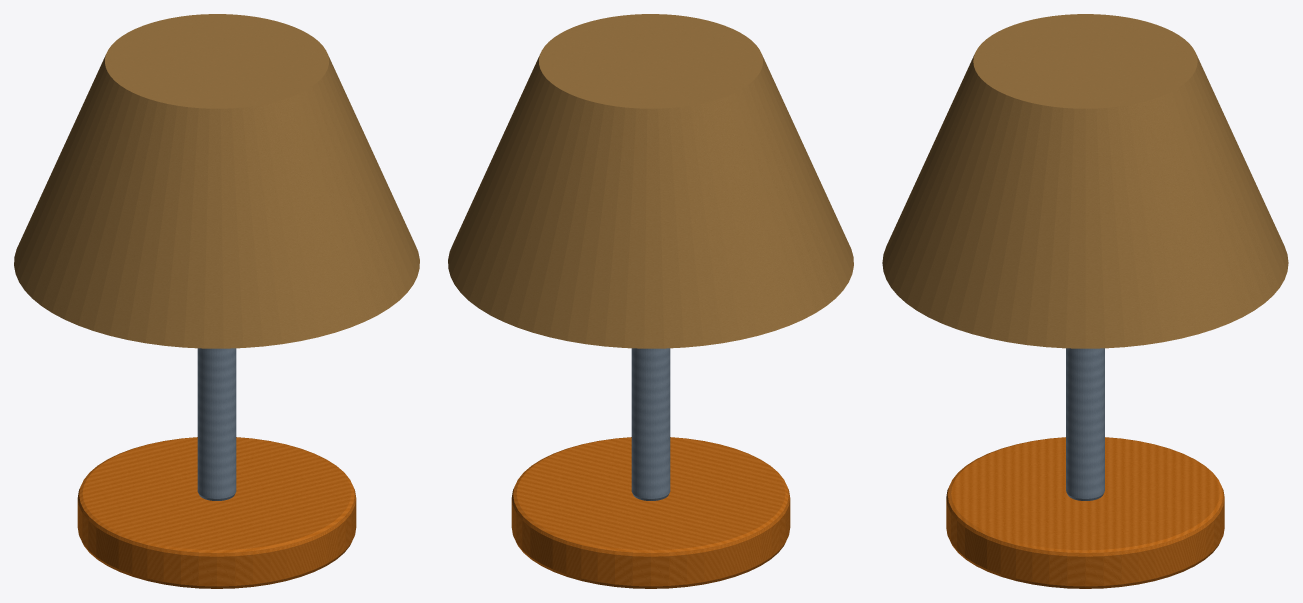
Rendered from lampe-brocante.glb.
3 renders of one model, left to right at view 1: azimuth 30°, elevation 25°; view 2: azimuth 150°, elevation 25°; view 3: azimuth 270°, elevation 25°, orthographic.
Visible parts, largest first — view 1: Cone, Socle, Tige; view 2: Cone, Socle, Tige; view 3: Cone, Socle, Tige.
Boxes of the visible parts, box(x1,y1,x2,y2) form: Cone: box(14, 14, 419, 348); Socle: box(77, 437, 356, 588); Tige: box(197, 348, 236, 500); Cone: box(448, 14, 853, 348); Socle: box(511, 437, 790, 588); Tige: box(631, 348, 670, 500); Cone: box(882, 14, 1288, 348); Socle: box(946, 437, 1224, 588); Tige: box(1066, 348, 1104, 500).
Size of the model in its own units: 2.1 by 2.68 by 2.1.
Materials: 3 (3 with a texture image).
